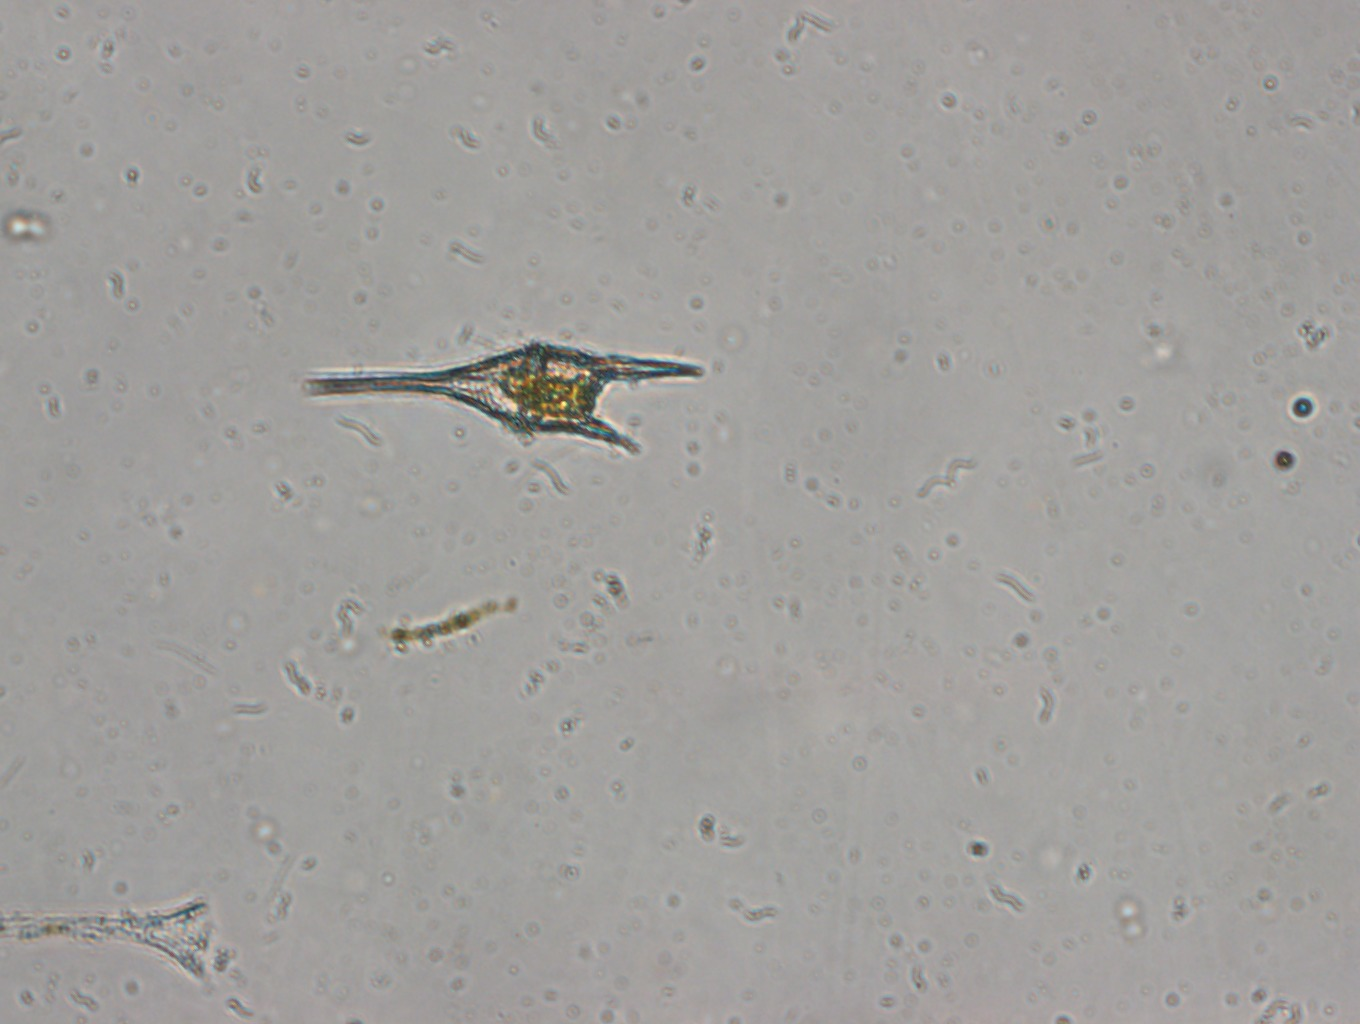ceratium furca: (291, 325, 706, 463)
